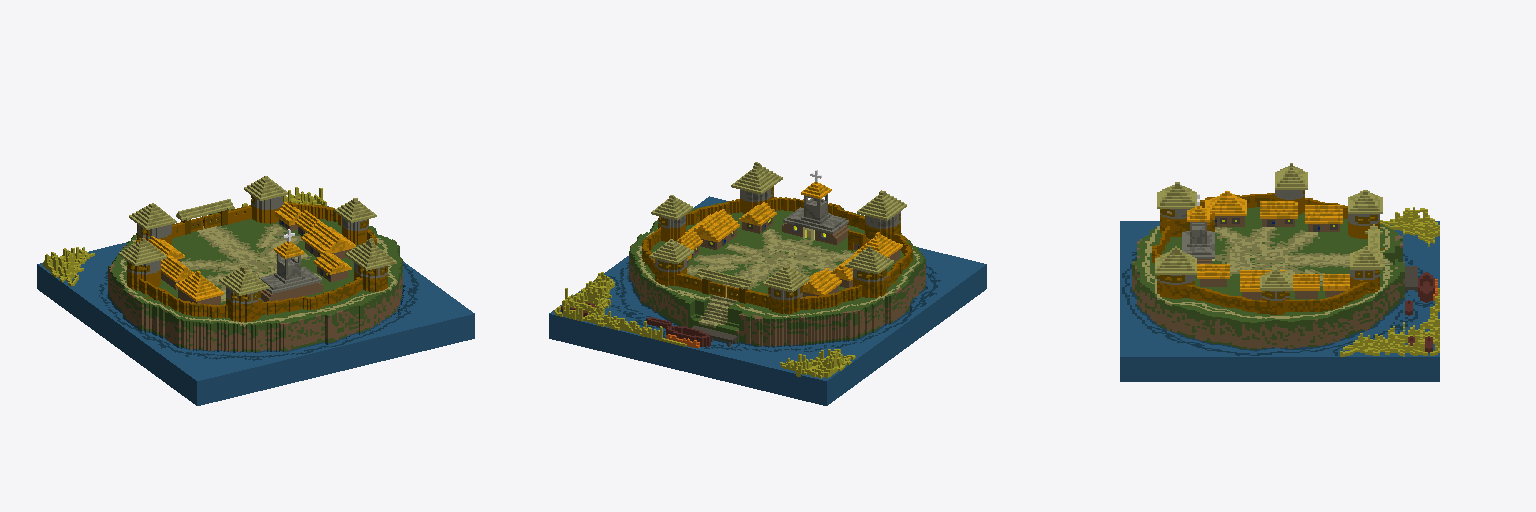
3 renders of one model, left to right at view 1: azimuth 30°, elevation 25°; view 2: azimuth 150°, elevation 25°; view 3: azimuth 270°, elevation 25°, orthographic.
Parts seen in each view (by area): view 1: object 1; view 2: object 1; view 3: object 1.
Part boxes in pixels (left/top/right/bottom): object 1: left=37, top=176, right=474, bottom=405; object 1: left=549, top=162, right=986, bottom=405; object 1: left=1120, top=163, right=1439, bottom=381.
Bounding box in the file's own units: 12.8 × 5.1 × 12.8.
1 materials, 1 textured.